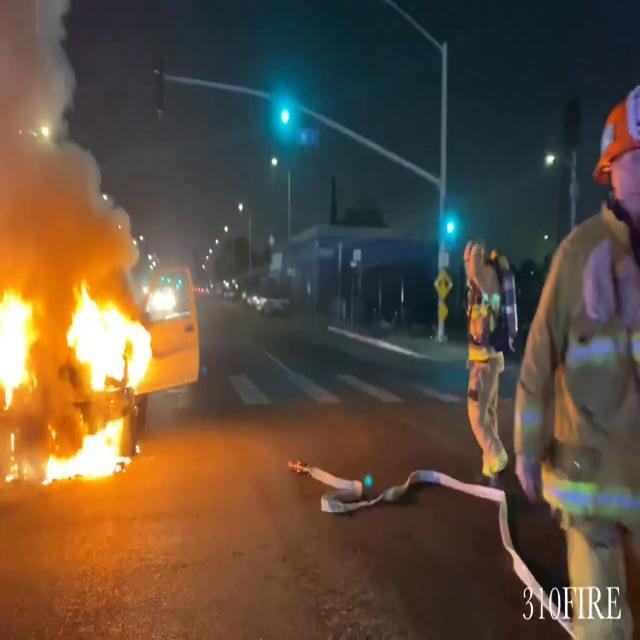Fire: (0, 268, 159, 486), (0, 282, 40, 404)
Smoke: (0, 0, 136, 287)
